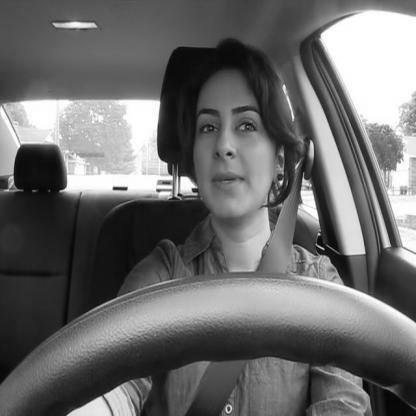seatbelt: (149, 33, 326, 416)
